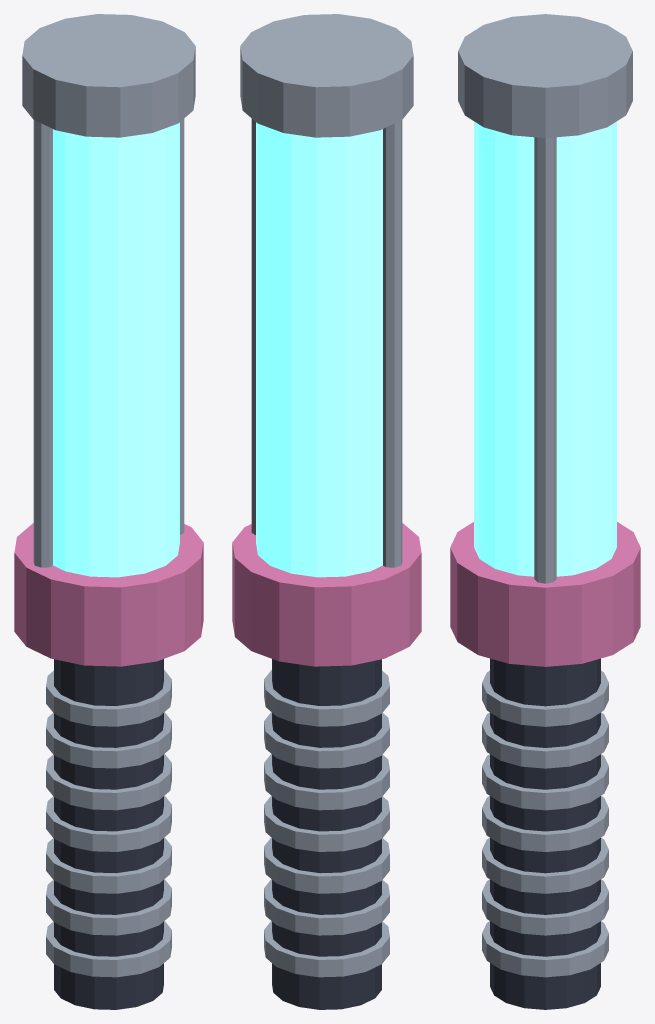
File: neon-dispatch-courier-signal-baton__185.glb
3 renders of one model, left to right at view 1: azimuth 30°, elevation 25°; view 2: azimuth 150°, elevation 25°; view 3: azimuth 270°, elevation 25°, orthographic.
Parts seen in each view (by area): view 1: light, metal, dark, accent; view 2: light, metal, dark, accent; view 3: light, metal, dark, accent.
Part boxes in pixels (x1,y1,x2,y2): light: (53, 122, 179, 577); metal: (22, 14, 195, 977); dark: (54, 659, 163, 1009); accent: (14, 523, 203, 666); light: (256, 122, 382, 577); metal: (240, 14, 413, 977); dark: (272, 659, 381, 1009); accent: (232, 523, 421, 666); light: (474, 121, 616, 576); metal: (458, 14, 632, 977); dark: (490, 658, 600, 1009); accent: (450, 522, 640, 666).
Size of the model in its own units: 0.12 by 0.65 by 0.12.
